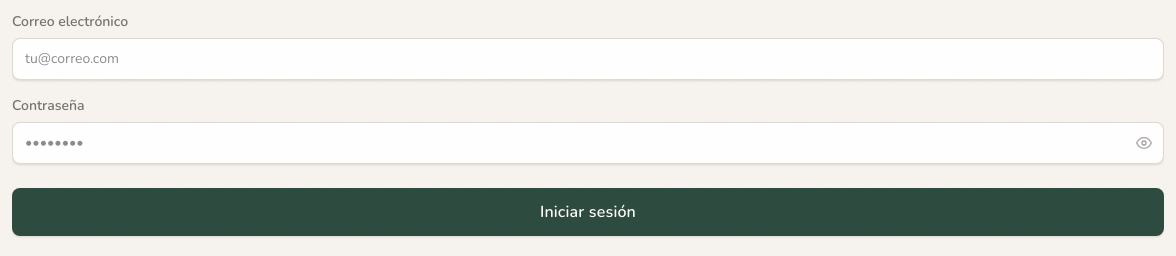
Scenario: LoginForm › muestra estado de carga mientras se procesa el inicio de sesión
Type "a@b.com" into the field labelled "Correo electrónico" at (588,59), box [12, 38, 1164, 80]
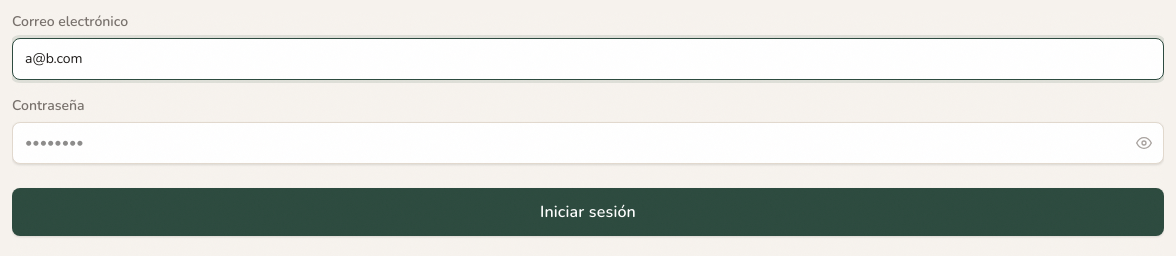
Type "123456" into the password field labelled "Contraseña" at (588,143), box [12, 122, 1164, 164]
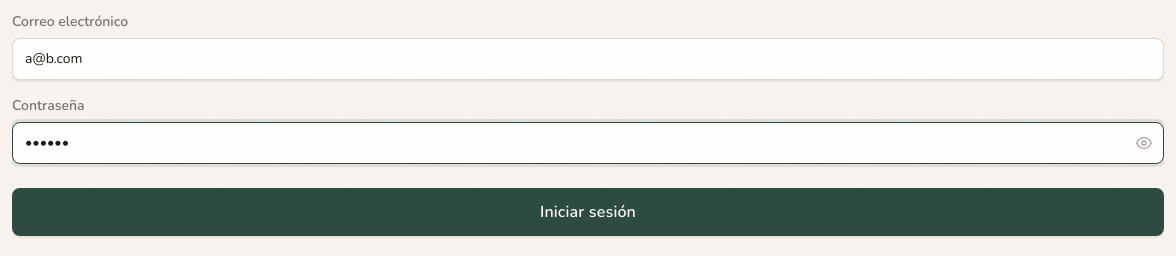
Click the button "Iniciar sesión" at (588,212), box [12, 188, 1164, 236]
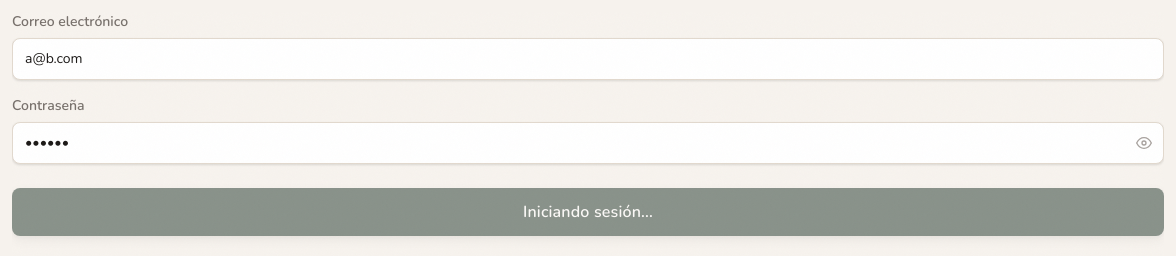
Expected: the button "Iniciando sesión..." is shown, [12, 188, 1164, 236]
